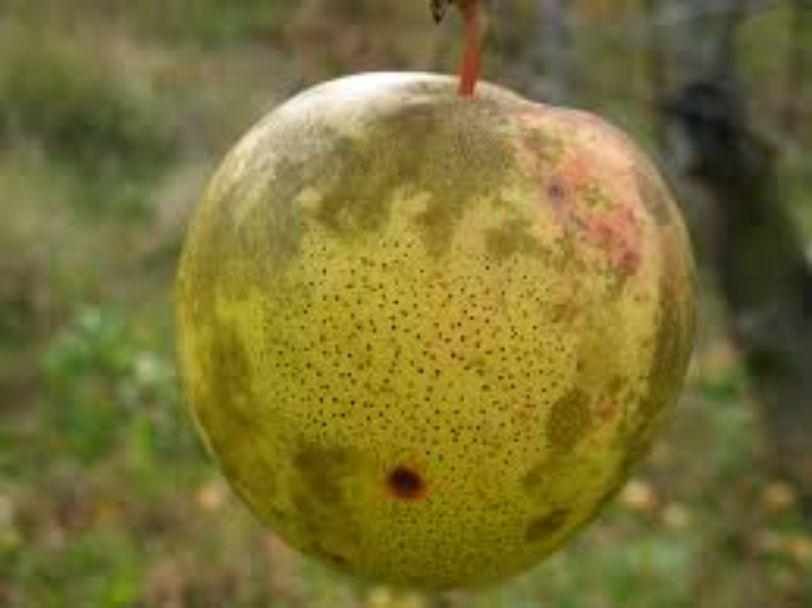BLOTCH: (156, 43, 723, 608)
